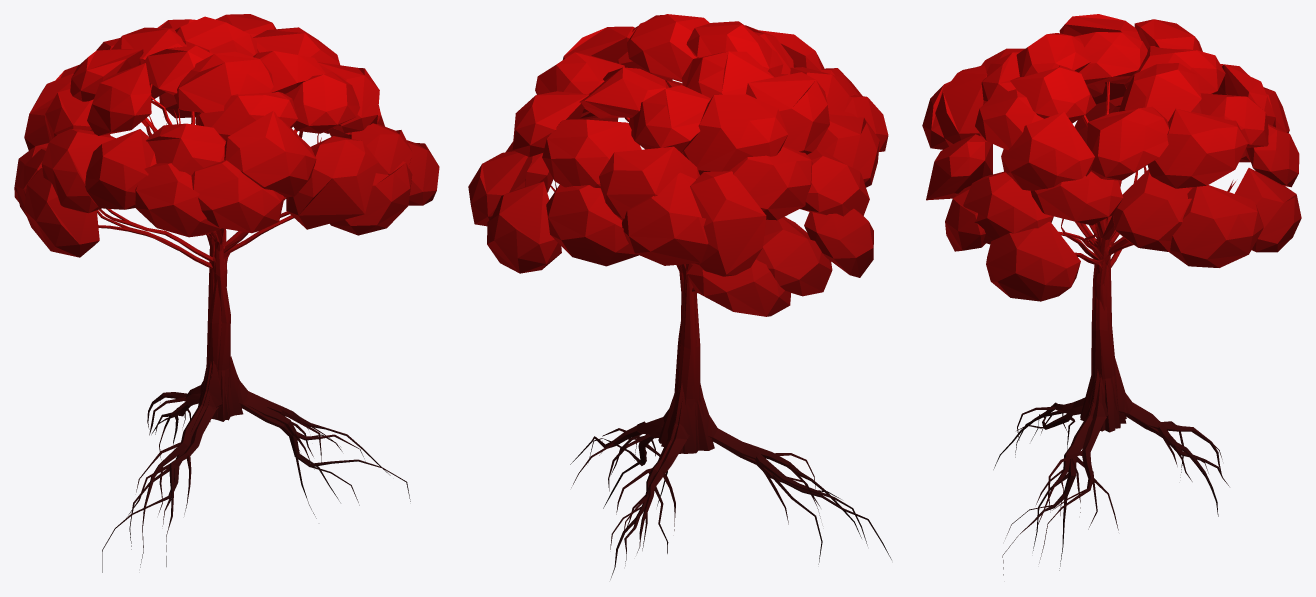
Rendered from TreeMahogany07.fbx.
The picture shows the model from 3 angles, left to right: view 1: azimuth 30°, elevation 25°; view 2: azimuth 150°, elevation 25°; view 3: azimuth 270°, elevation 25°; orthographic projection. The views are drawn at different scales.
Visible parts, largest first — view 1: TreeMahogany07_LOD0; view 2: TreeMahogany07_LOD0; view 3: TreeMahogany07_LOD0.
Boxes of the visible parts, x1=… form: TreeMahogany07_LOD0: x1=14, y1=14, x2=439, y2=572; TreeMahogany07_LOD0: x1=468, y1=14, x2=891, y2=579; TreeMahogany07_LOD0: x1=922, y1=14, x2=1301, y2=575.
Size of what is drawn, in the model's own units: 1764 by 2231 by 1597.
